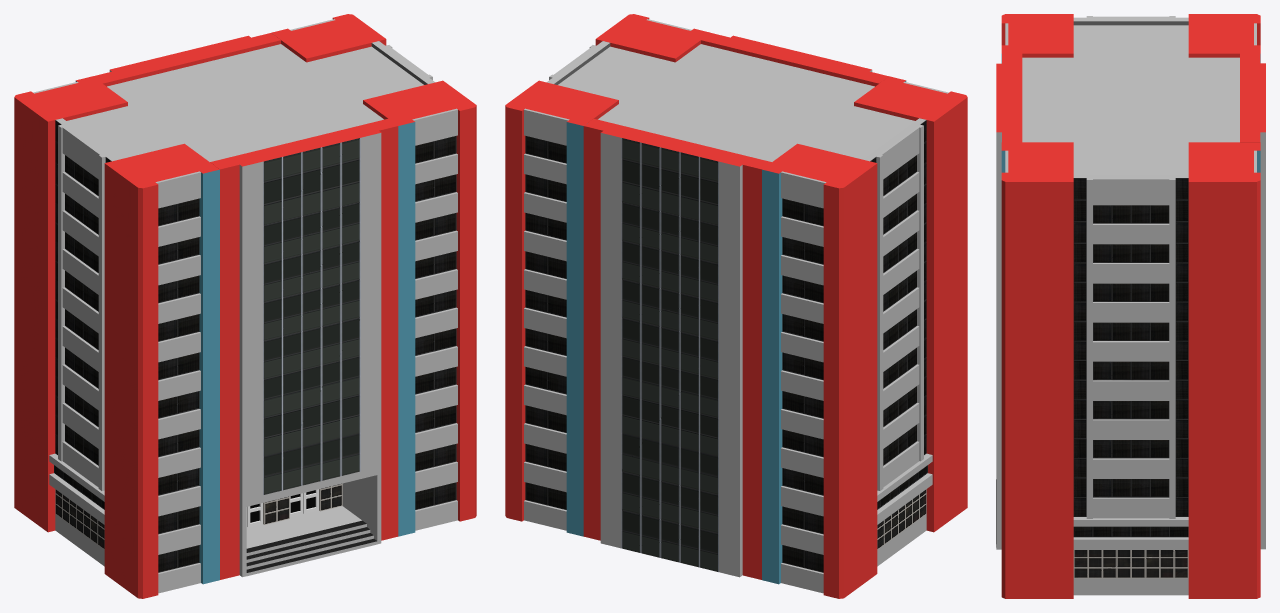
3 renders of one model, left to right at view 1: azimuth 30°, elevation 25°; view 2: azimuth 150°, elevation 25°; view 3: azimuth 270°, elevation 25°, orthographic.
Parts seen in each view (by area): view 1: Building; view 2: Building; view 3: Building.
Part boxes in pixels (left/top/right/bottom): Building: left=14, top=14, right=476, bottom=598; Building: left=505, top=14, right=967, bottom=598; Building: left=996, top=14, right=1265, bottom=598.
Size of what is drawn, in the model's own units: 27.61 by 32 by 18.75.
